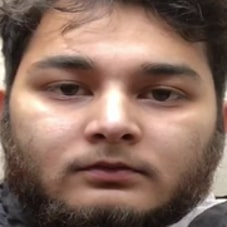awake: (28, 44, 207, 204)
